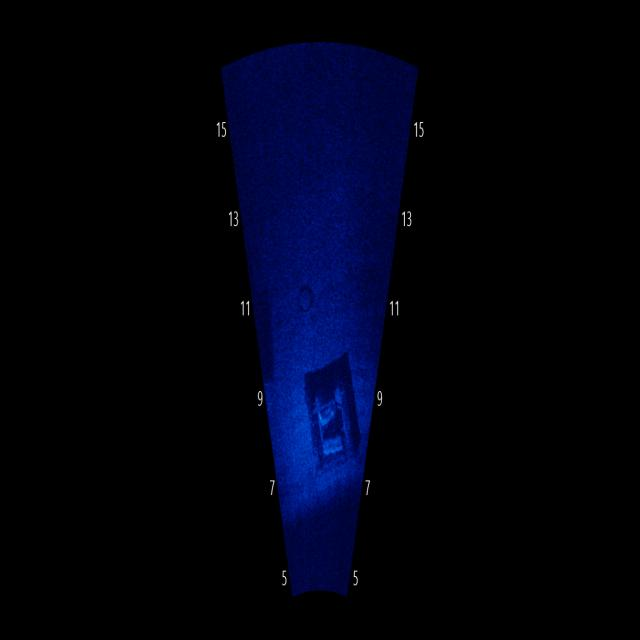square: (292, 324, 362, 493)
